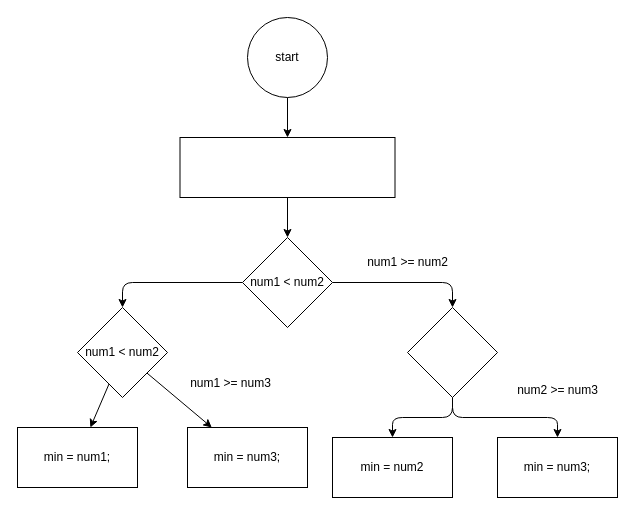
Some shapes in this 635 by 515 pixel diagram are drawn without their labels. Each missing label, with the centre of its shape:
"num1 = 10; num2 = 15; num3 = 5" belongs at (x=287, y=167).
"num2 < num3" belongs at (x=452, y=352).
